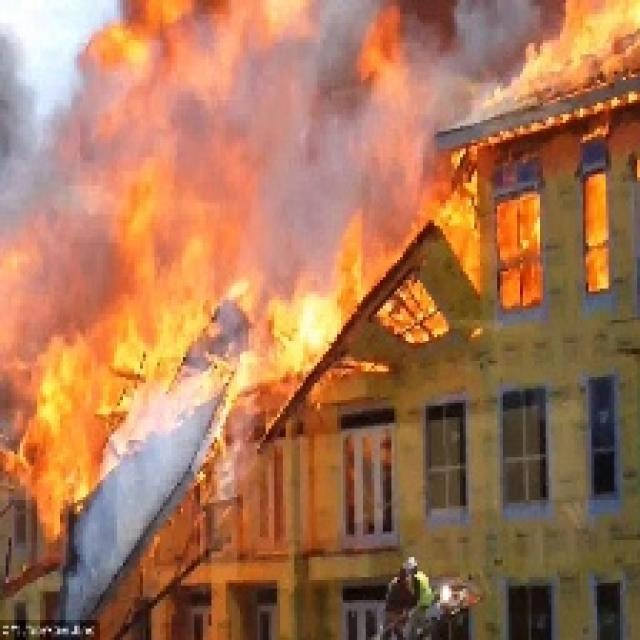Fire: (111, 162, 360, 368), (0, 241, 113, 538), (360, 16, 482, 276), (82, 0, 269, 163)
